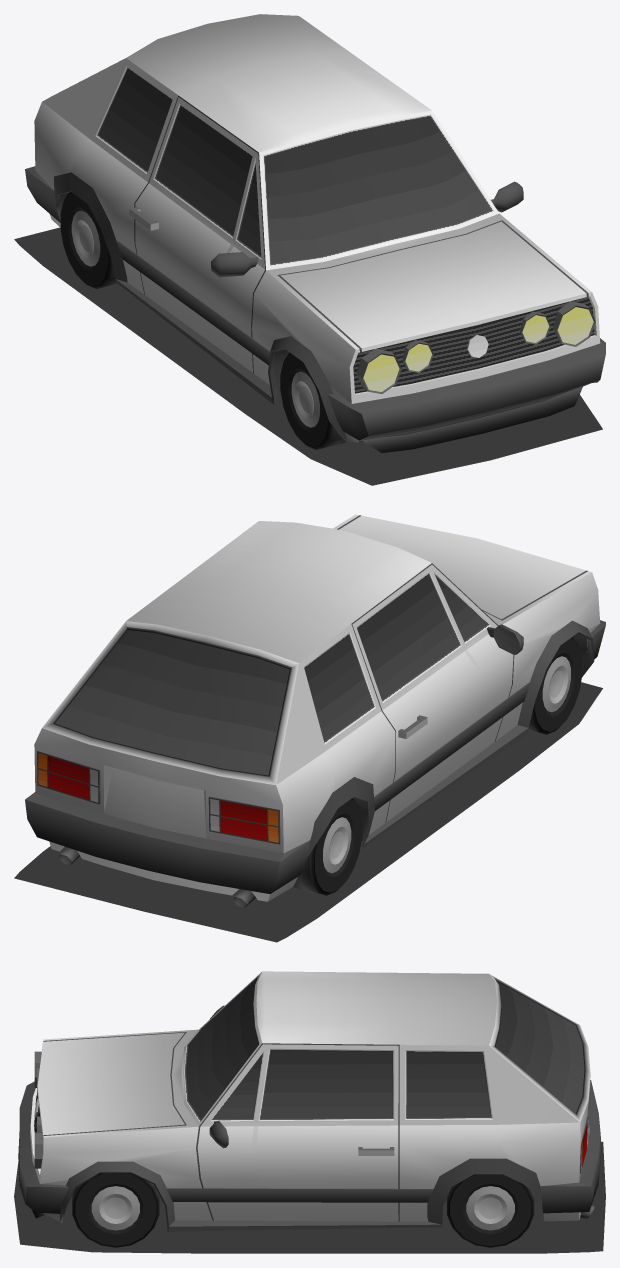
Rendered from gti.FBX.
The picture shows the model from 3 angles, top to bottom: view 1: azimuth 30°, elevation 25°; view 2: azimuth 150°, elevation 25°; view 3: azimuth 270°, elevation 25°; orthographic projection. The views are drawn at different scales.
Parts seen in each view (by area): view 1: body, shadow, RR, FR; view 2: body, shadow, back lights, RR, FR; view 3: body, shadow, FL, RL.
Part boxes in pixels (x1,y1,x2,y2): body: (25,14,605,452); shadow: (14,227,602,485); RR: (60,192,117,288); FR: (280,352,346,449); body: (25,514,605,907); shadow: (14,682,602,942); back lights: (38,753,278,842); RR: (293,798,362,895); FR: (528,637,582,734); body: (18,971,601,1231); shadow: (14,1141,605,1253); FL: (72,1173,159,1247); RL: (447,1174,534,1247).
Size of the model in its own units: 89.71 by 64.48 by 174.
